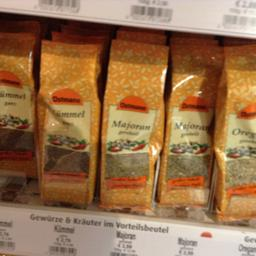spices: (102, 38, 164, 214), (36, 38, 100, 207), (160, 44, 217, 210), (216, 41, 255, 222), (0, 31, 37, 177)
